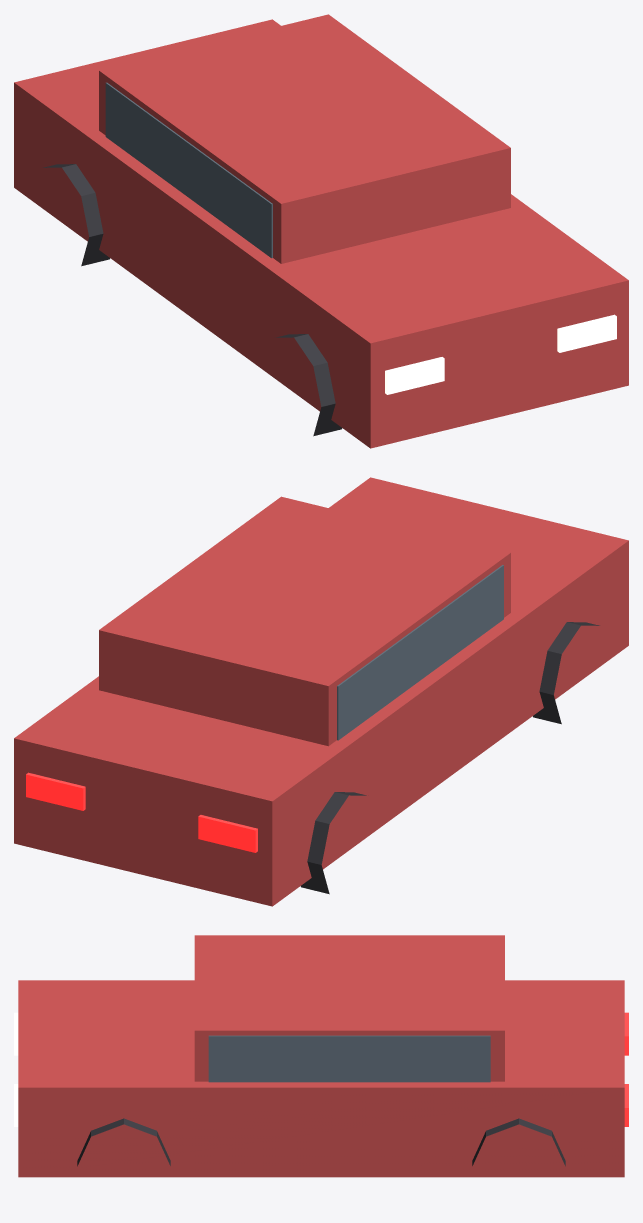
The model's file is car_parked_red.glb.
3 views of the same model, one above another, from view 1: azimuth 30°, elevation 25°; view 2: azimuth 150°, elevation 25°; view 3: azimuth 270°, elevation 25° (orthographic). The views are drawn at different scales.
Visible parts, largest first — view 1: car_parked_red; view 2: car_parked_red; view 3: car_parked_red.
Boxes of the visible parts, x1,y1,x2,y2 form: car_parked_red: (14, 14, 628, 448); car_parked_red: (14, 477, 628, 906); car_parked_red: (14, 935, 628, 1177).
Bounding box in the file's own units: 2 × 1.3 × 4.36.
